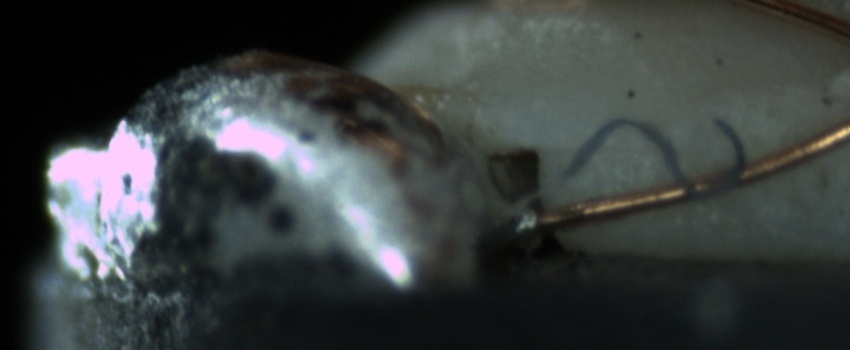DL: (557, 123, 651, 184)
